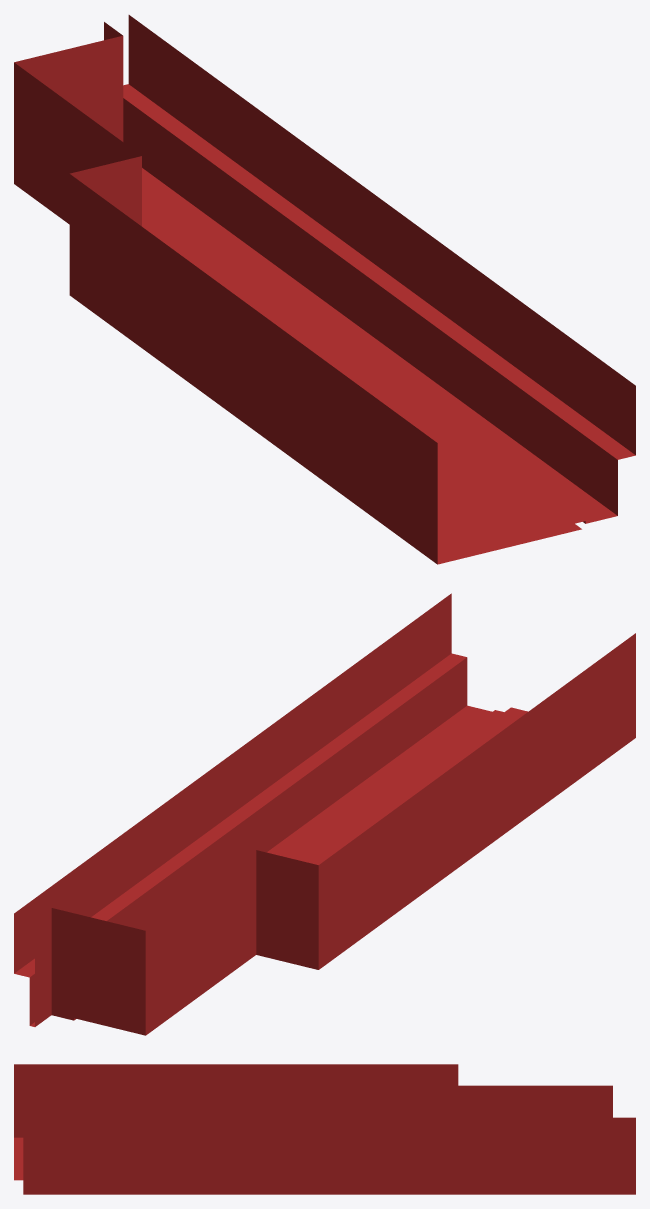
Rendered from SM_Ceiling_03.fbx.
The picture shows the model from 3 angles, top to bottom: view 1: azimuth 30°, elevation 25°; view 2: azimuth 150°, elevation 25°; view 3: azimuth 270°, elevation 25°; orthographic projection. The views are drawn at different scales.
Visible parts, largest first — view 1: SM_Ceiling_03; view 2: SM_Ceiling_03; view 3: SM_Ceiling_03.
Part boxes in pixels (x1,y1,x2,y2): SM_Ceiling_03: [14, 15, 635, 564]; SM_Ceiling_03: [14, 593, 635, 1035]; SM_Ceiling_03: [14, 1064, 635, 1194].
Bounding box in the file's own units: 114 × 66.4 × 493.
